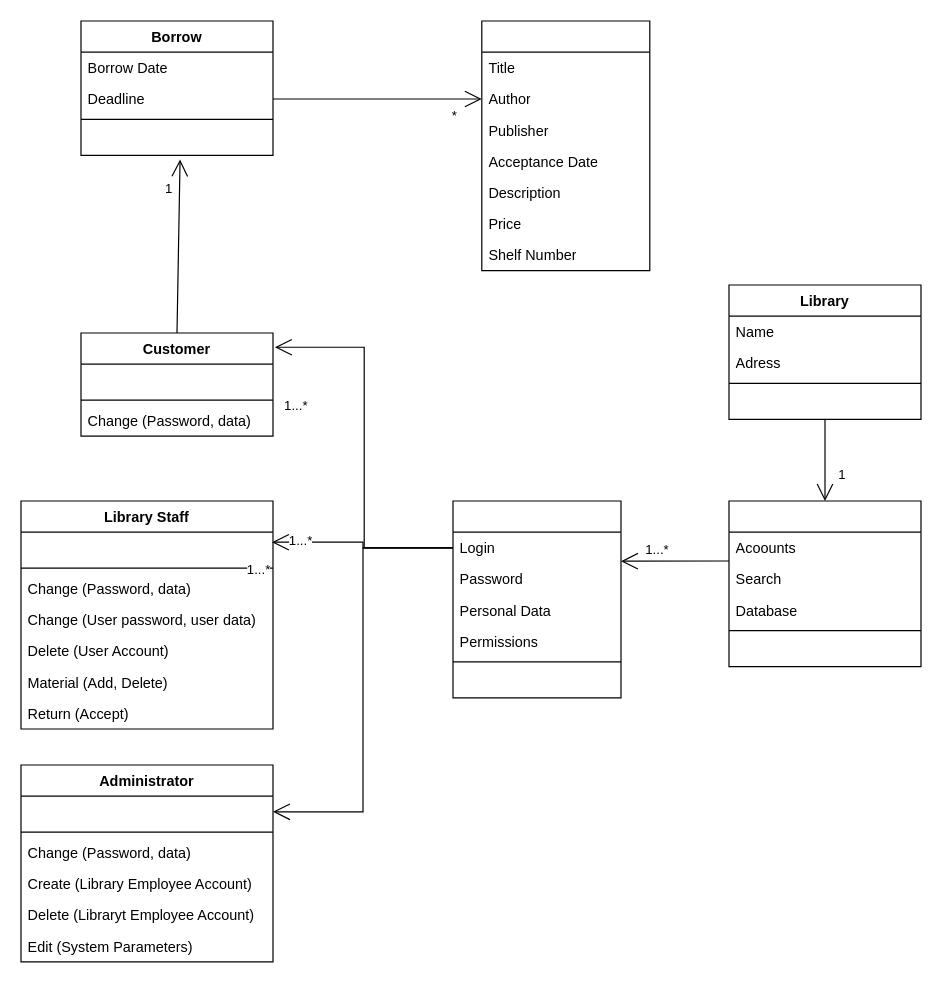
The diagram is 942 pixels wide and 986 high, and some of its shapes have lost their labels. Here are the shapes that lost their labels. From the top down, the box of each, then its label:
(481, 20, 650, 271): Library Material
(452, 500, 621, 698): Account
(728, 500, 921, 667): Online Library System
